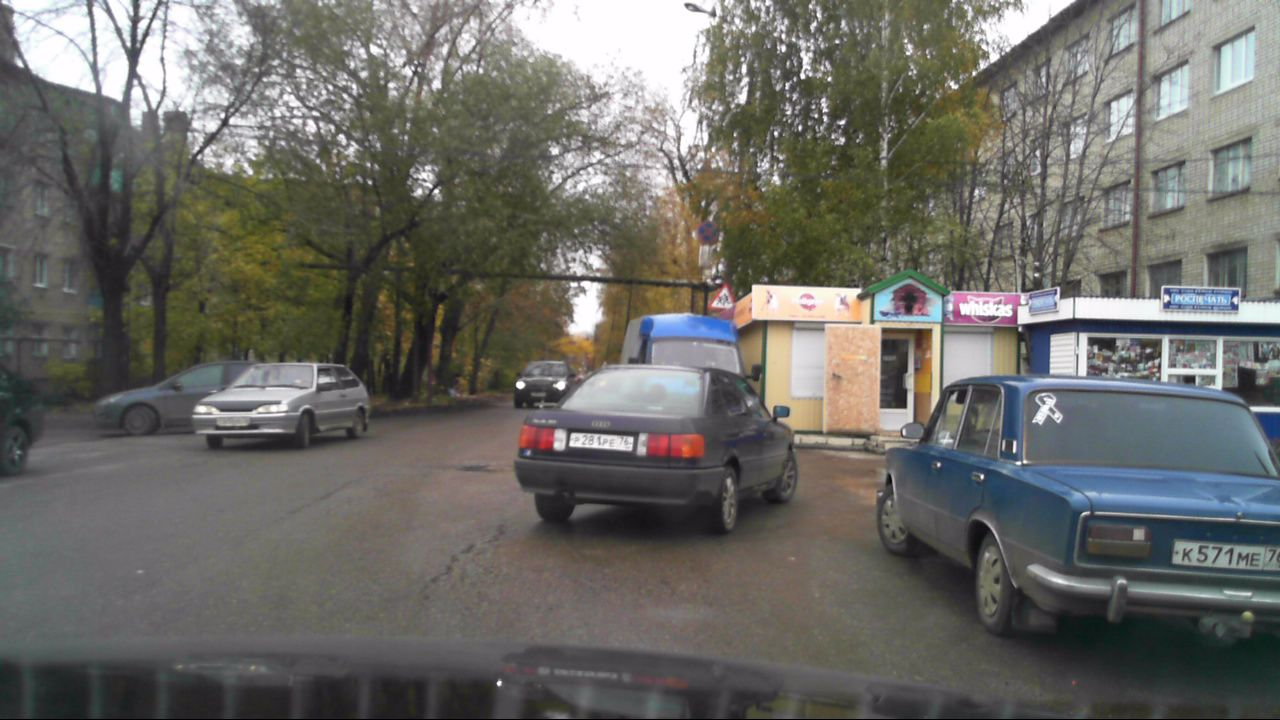No Parking: (695, 221, 719, 244)
